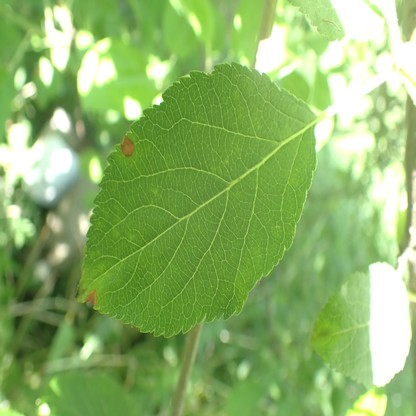frogeye_leaf_spot: (121, 135, 135, 157), (85, 289, 97, 307)
